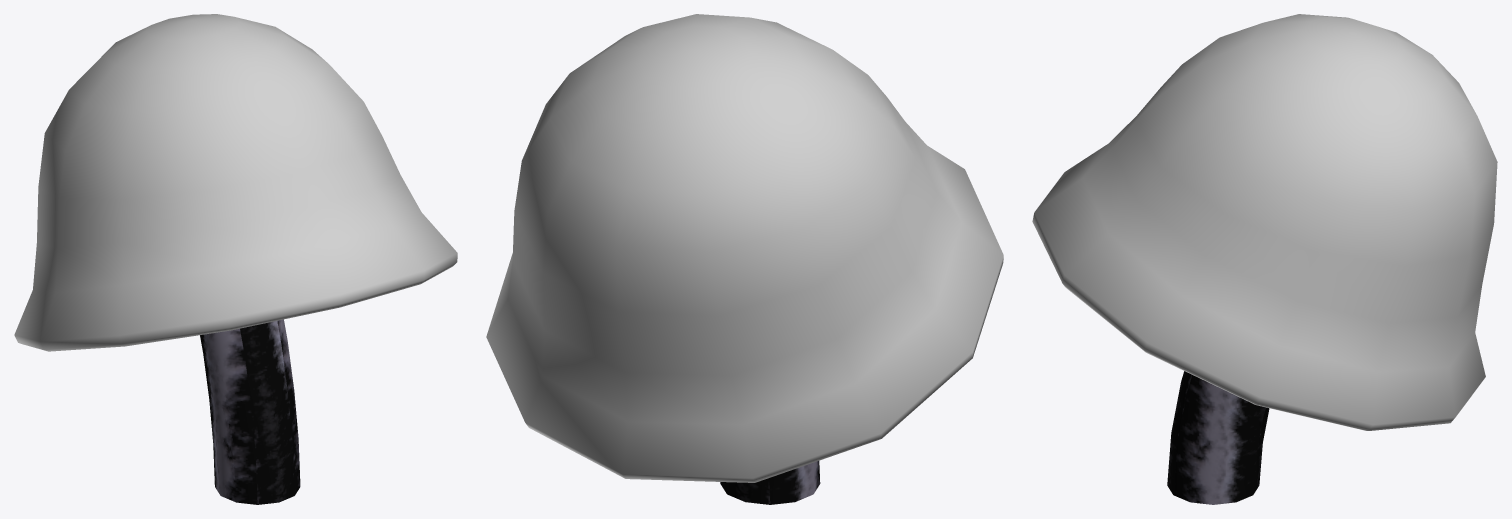
The model's file is Mushroom3.fbx.
3 renders of one model, left to right at view 1: azimuth 30°, elevation 25°; view 2: azimuth 150°, elevation 25°; view 3: azimuth 270°, elevation 25°, orthographic. The views are drawn at different scales.
Parts seen in each view (by area): view 1: Mushroom 3; view 2: Mushroom 3; view 3: Mushroom 3.
Part boxes in pixels (bbox=[...]): Mushroom 3: bbox=[14, 14, 457, 504]; Mushroom 3: bbox=[486, 14, 1003, 504]; Mushroom 3: bbox=[1032, 14, 1497, 504].
Bounding box in the file's own units: 95.97 × 98.83 × 91.7.
